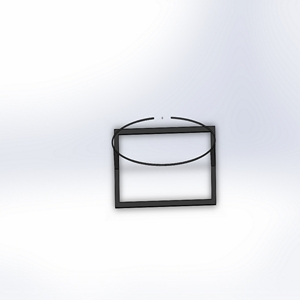circle: (110, 114, 219, 209)
